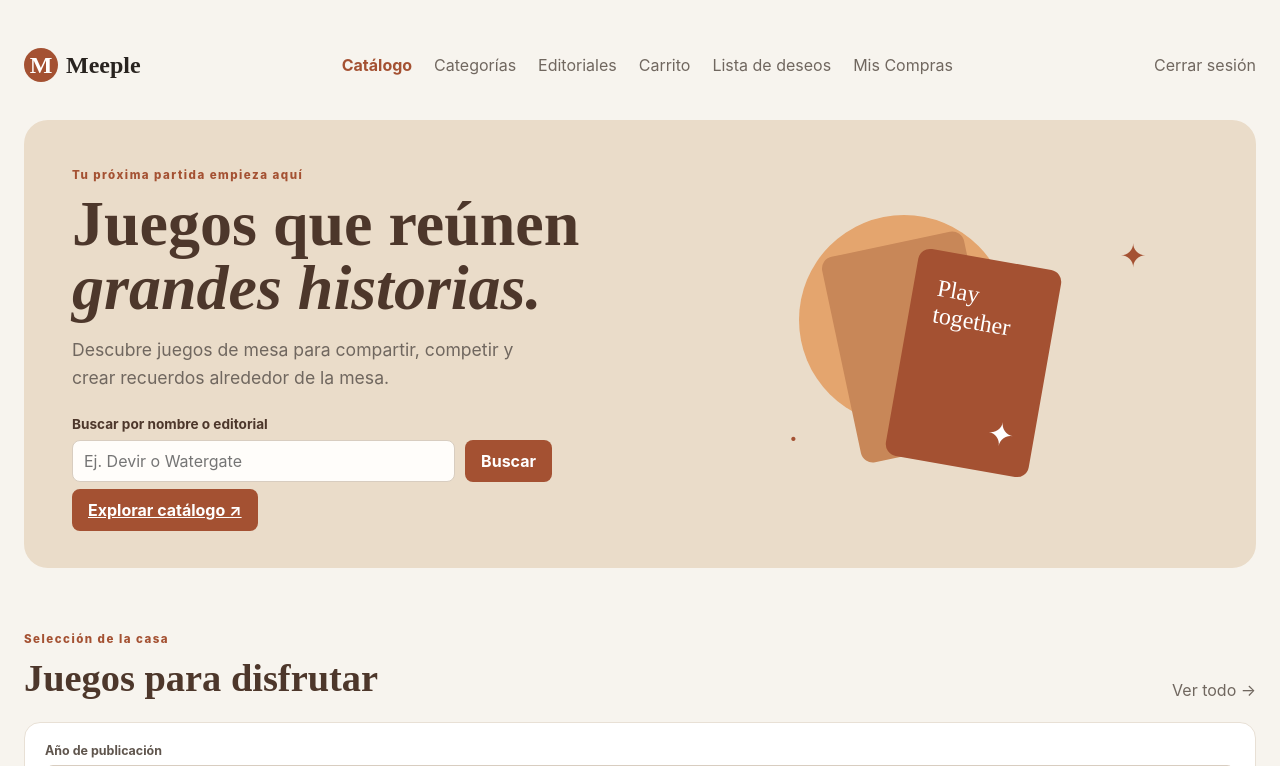
Scenario: Wishlist › links to Wishlist from authenticated navigation
The image size is (1280, 766).
Click the link "Lista de deseos". click: (772, 65)
box: top-left (712, 55), bottom-right (831, 75)
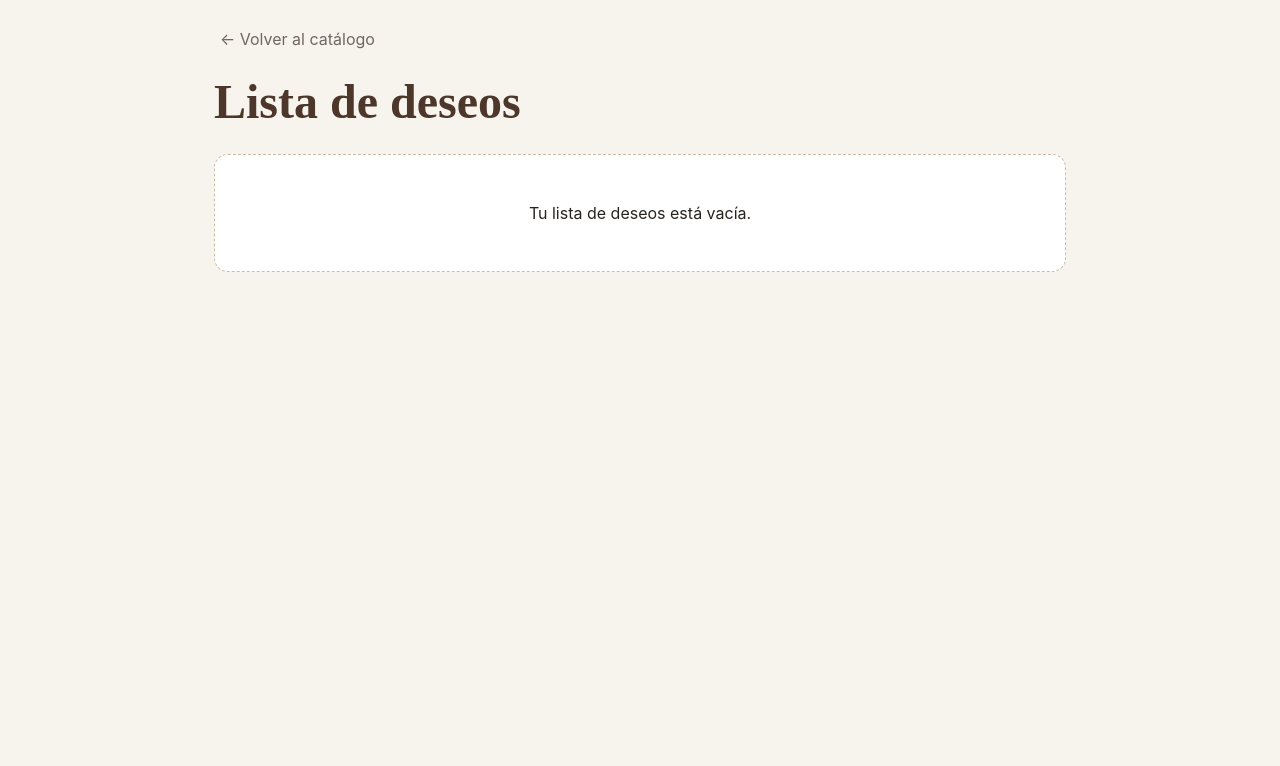
Check: the heading "Lista de deseos" is shown, box top-left (214, 75), bottom-right (521, 128)
